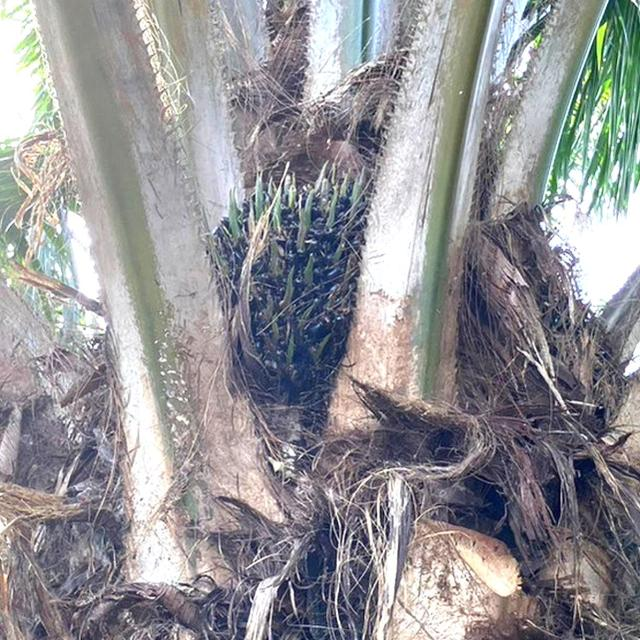unripe: (206, 168, 377, 441)
